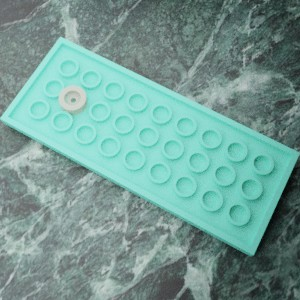lego: (0, 36, 299, 256), (58, 85, 87, 114)
